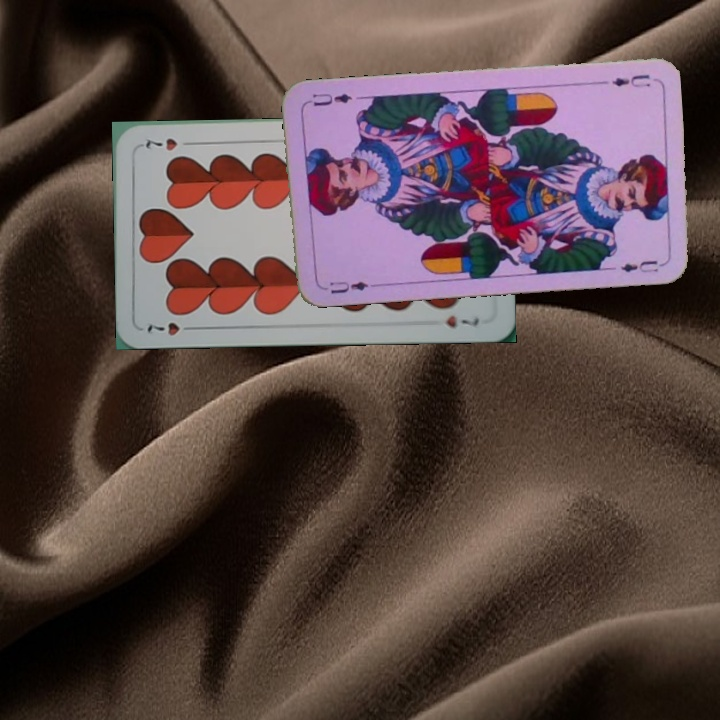EU: (608, 70, 653, 90), (326, 277, 371, 296)
H7: (143, 318, 199, 338)
